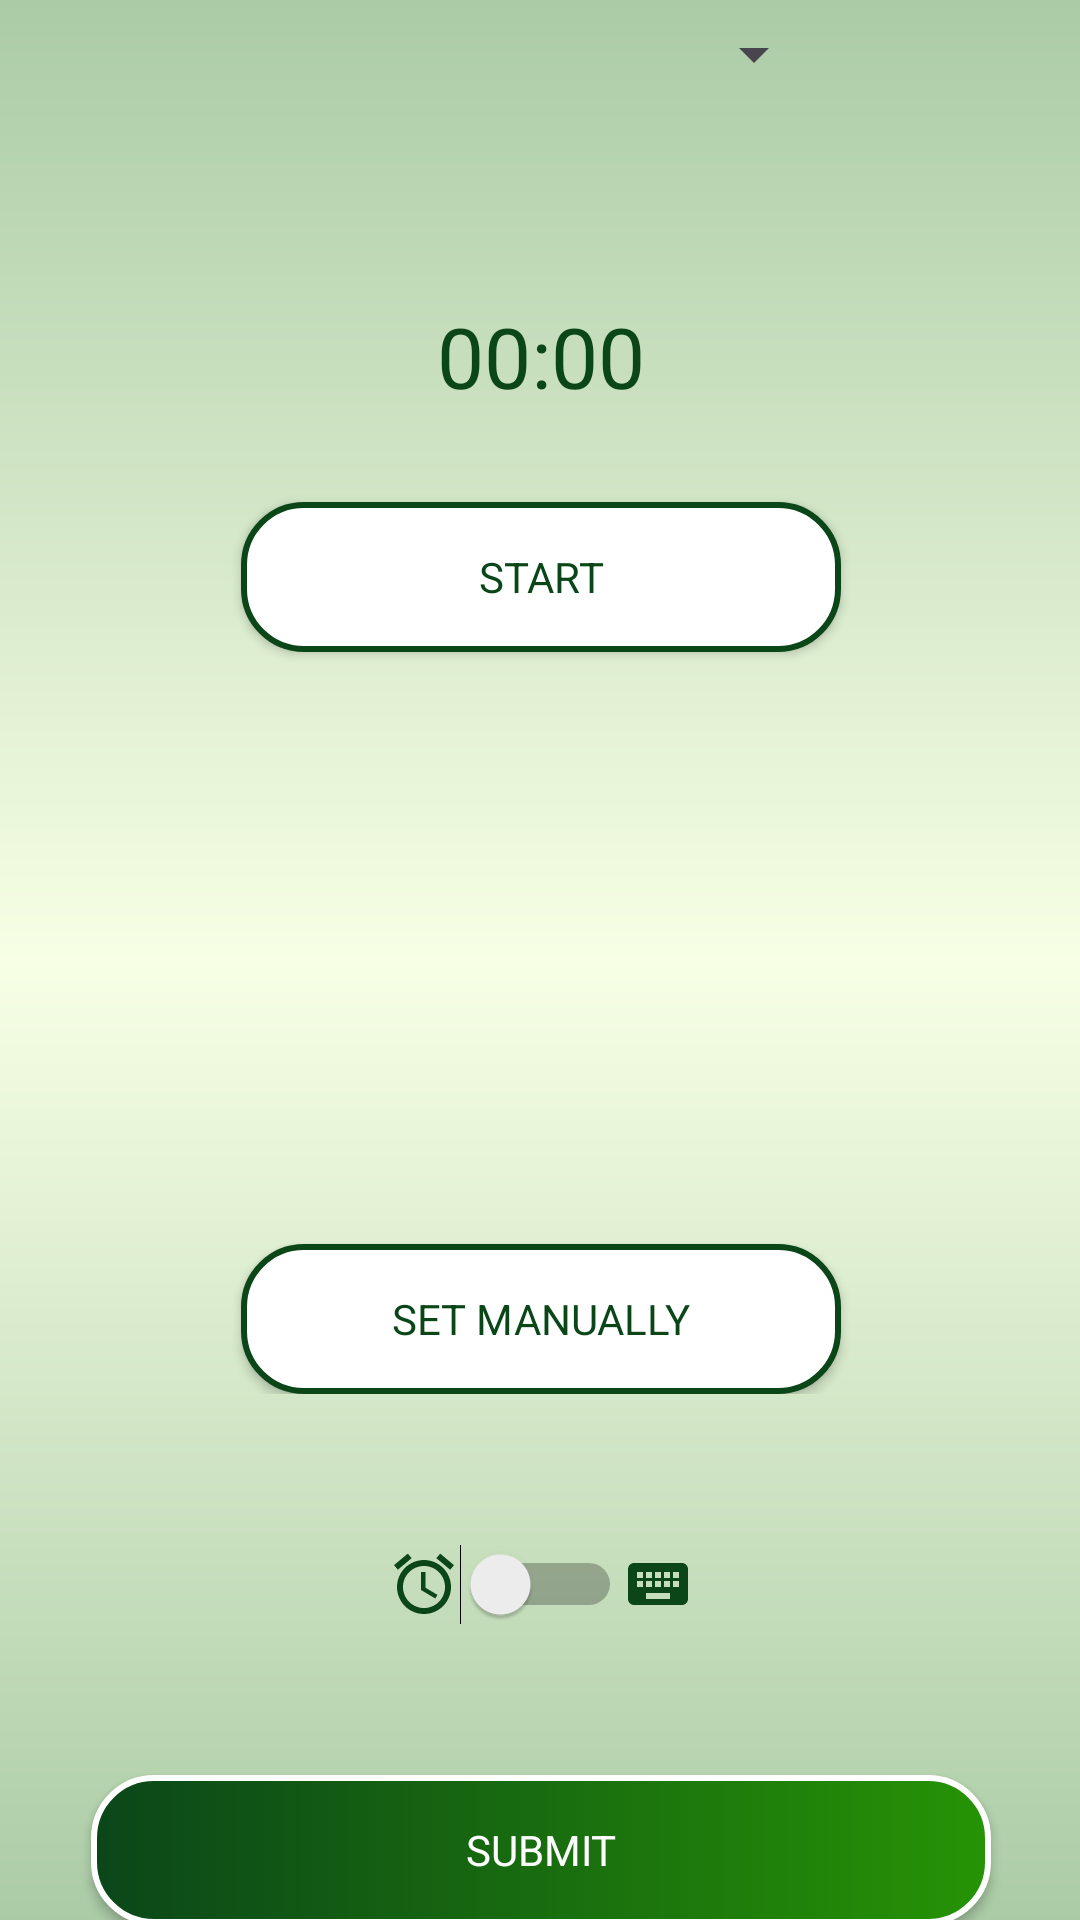

Icons on this 1080*1920 Android screen, each with the point to tap as [x,y]:
access alarm: [424,1584]
keyboard: [658,1584]
